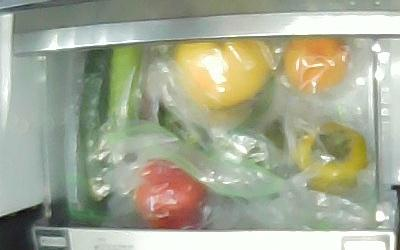apple_vinyl: (135, 158, 204, 230)
cucumber_vinyl: (79, 48, 112, 201), (108, 43, 141, 163), (76, 125, 107, 228)
grapefruit_vinyl: (173, 39, 274, 110)
peach_vinyl: (282, 38, 351, 94)
persimmon_vinyl: (294, 122, 368, 191)
